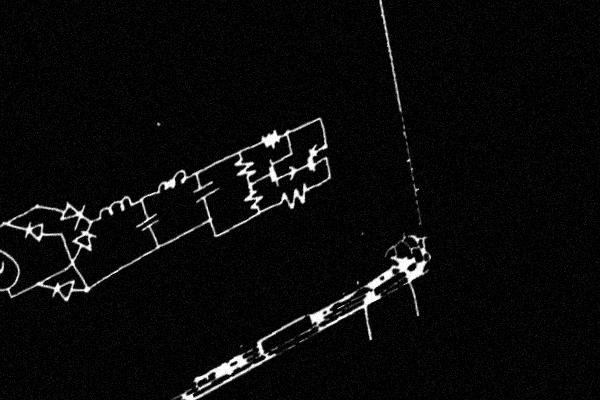capacitor: (188, 170, 224, 213), (132, 206, 162, 239)
diode: (54, 187, 92, 239), (46, 268, 81, 313), (68, 220, 102, 263), (18, 211, 48, 251)
inductor: (91, 188, 139, 229), (148, 162, 193, 201)
resistor: (272, 174, 318, 220), (252, 120, 289, 161), (229, 146, 261, 190), (239, 179, 269, 220)
signal: (0, 230, 26, 309)
